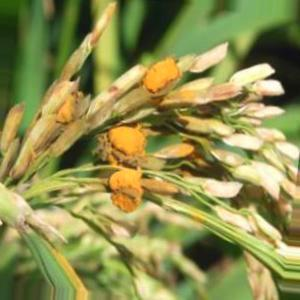Leaf_Scald: (113, 124, 147, 215), (137, 64, 185, 96), (53, 100, 78, 124)
